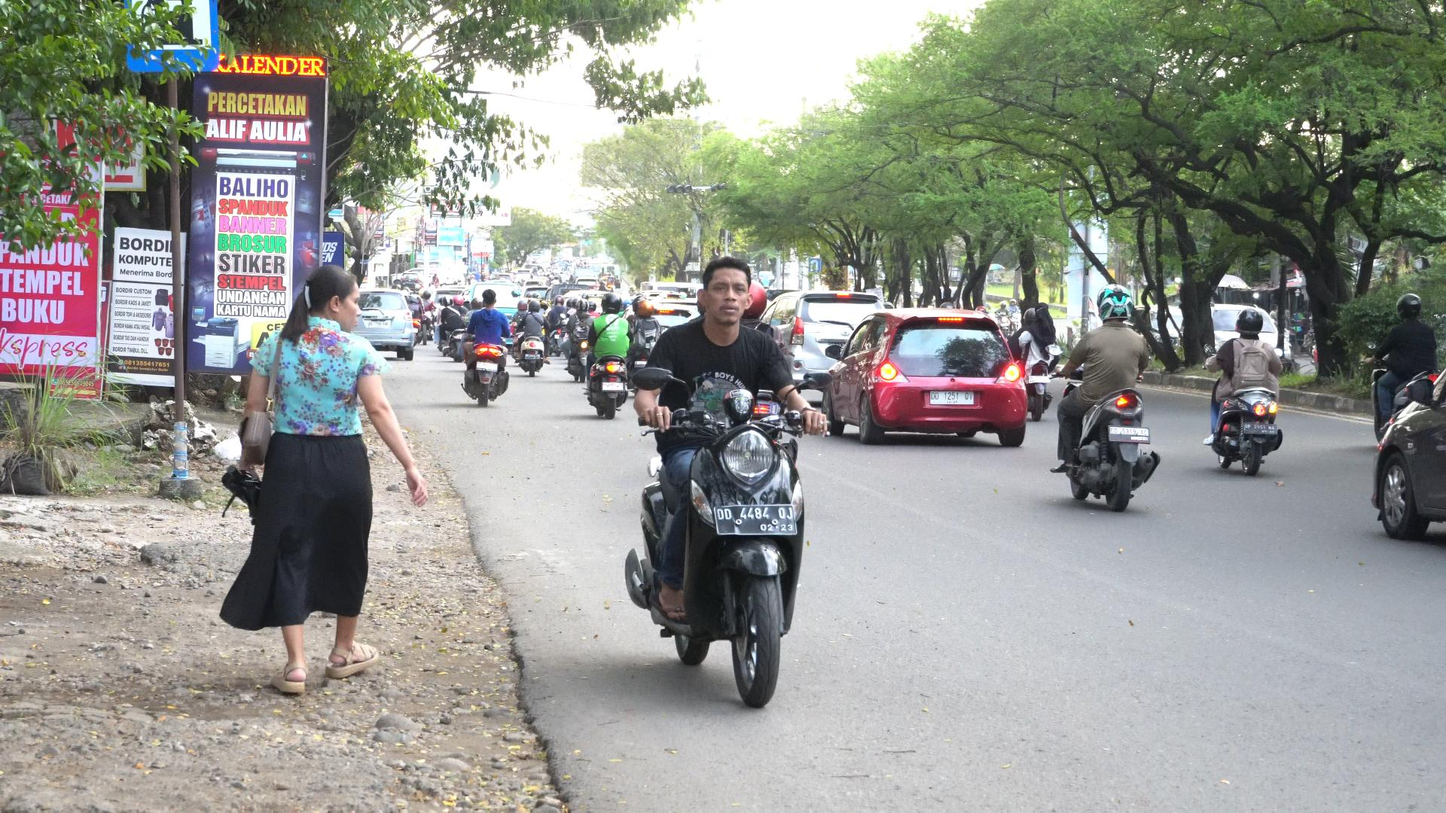number-plate: (715, 500, 800, 537)
